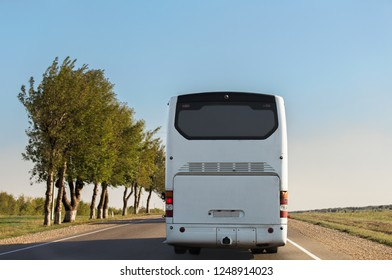bus: (163, 89, 292, 256)
